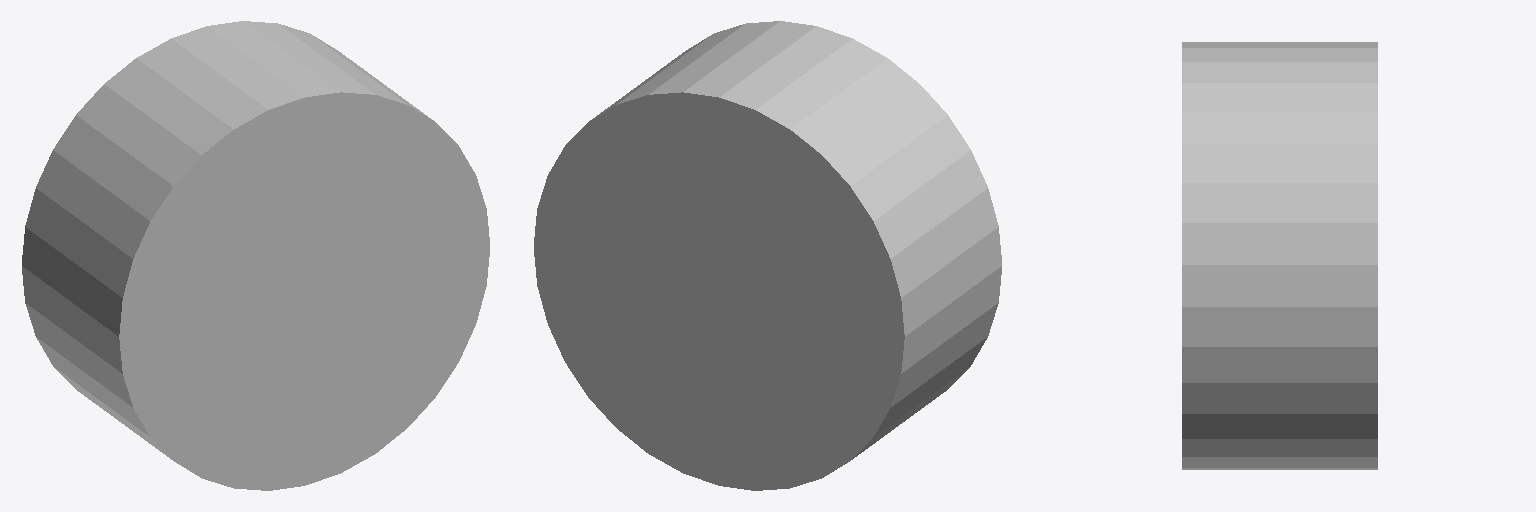
The model's file is WheelBR.OBJ.
3 views of the same model, side by side, from view 1: azimuth 30°, elevation 25°; view 2: azimuth 150°, elevation 25°; view 3: azimuth 270°, elevation 25° (orthographic).
Visible parts, largest first — view 1: WheelBR_Cylinder.030; view 2: WheelBR_Cylinder.030; view 3: WheelBR_Cylinder.030.
Part boxes in pixels (left/top/right/bottom): WheelBR_Cylinder.030: left=22, top=21, right=489, bottom=490; WheelBR_Cylinder.030: left=534, top=21, right=1001, bottom=490; WheelBR_Cylinder.030: left=1182, top=42, right=1377, bottom=469.
Bounding box in the file's own units: 0.4314 × 0.4314 × 0.1965.